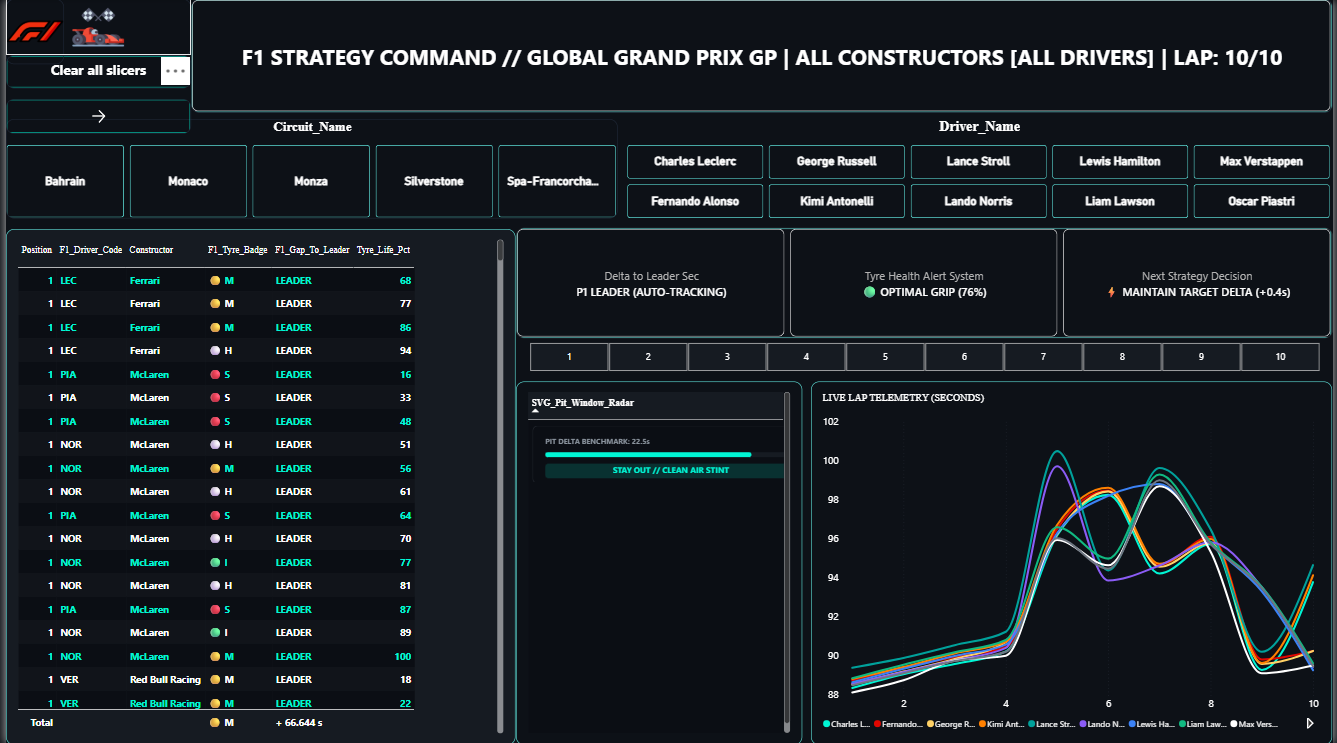

The page's visual inventory and layout, read from the dashboard file:
{"tool":"powerbi","page":{"name":"Page 1","canvas":[1920,1080],"ordinal":0},"visuals":[{"type":"cardVisual","fields":{"Data":["F1_Telemetry.Dynamic Header Title"]},"box":[267.5,0,1652.5,165],"z":0},{"type":"advancedSlicerVisual","fields":{"Values":["F1_Telemetry.Circuit_Name"]},"box":[0,174.3,885.7,144.3],"z":1000},{"type":"advancedSlicerVisual","fields":{"Values":["F1_Telemetry.Driver_Name"]},"box":[900,174,1020,144.3],"z":2000},{"type":"lineChart","title":"LIVE LAP TELEMETRY (SECONDS)","fields":{"Category":["F1_Telemetry.Current_Lap"],"Series":["F1_Telemetry.Driver_Name"],"Y":["Avg(F1_Telemetry.Lap_Time_Sec)"]},"box":[1166,554,754,526],"z":3000},{"type":"cardVisual","fields":{"Data":["F1_Telemetry.Delta to Leader Sec","F1_Telemetry.Tyre Health Alert System","F1_Telemetry.Next Strategy Decision"]},"box":[738,332,1182,160],"z":4000},{"type":"tableEx","fields":{"Values":["F1_Telemetry.Position","F1_Telemetry.F1_Driver_Code","F1_Telemetry.Constructor","F1_Telemetry.F1_Tyre_Badge","F1_Telemetry.F1_Gap_To_Leader","F1_Telemetry.Tyre_Life_Pct"]},"box":[0,332.5,737.5,747.5],"z":5000},{"type":"slicer","fields":{"Values":["F1_Telemetry.Current_Lap"]},"box":[738,496,1182,44],"z":6000},{"type":"tableEx","fields":{"Values":["F1_Telemetry.SVG_Pit_Window_Radar"]},"box":[738,554,414,526],"z":7000},{"type":"actionButton","box":[0,82,268,48],"z":8000},{"type":"actionButton","box":[0,144,268,50],"z":9000},{"type":"image","box":[0,0,84,94],"z":10001},{"type":"image","box":[0,0,268,82],"z":10002}]}

Visuals, with their boxes in screenshot pixels (x1, y1, x2, y2), scaled from the page's 1920x1080 canvas onto the 1337x743 screenshot:
cardVisual - F1_Telemetry.Dynamic Header Title: x1=186 y1=0 x2=1336 y2=114
advancedSlicerVisual - F1_Telemetry.Circuit_Name: x1=0 y1=120 x2=617 y2=219
advancedSlicerVisual - F1_Telemetry.Driver_Name: x1=627 y1=120 x2=1336 y2=219
"LIVE LAP TELEMETRY (SECONDS)" lineChart: x1=812 y1=381 x2=1336 y2=742
cardVisual - F1_Telemetry.Delta to Leader Sec x F1_Telemetry.Tyre Health Alert System: x1=514 y1=228 x2=1336 y2=338
tableEx - F1_Telemetry.Position x F1_Telemetry.F1_Driver_Code: x1=0 y1=229 x2=514 y2=742
slicer - F1_Telemetry.Current_Lap: x1=514 y1=341 x2=1336 y2=372
tableEx - F1_Telemetry.SVG_Pit_Window_Radar: x1=514 y1=381 x2=802 y2=742
actionButton: x1=0 y1=56 x2=187 y2=89
actionButton: x1=0 y1=99 x2=187 y2=133
image: x1=0 y1=0 x2=58 y2=65
image: x1=0 y1=0 x2=187 y2=56
